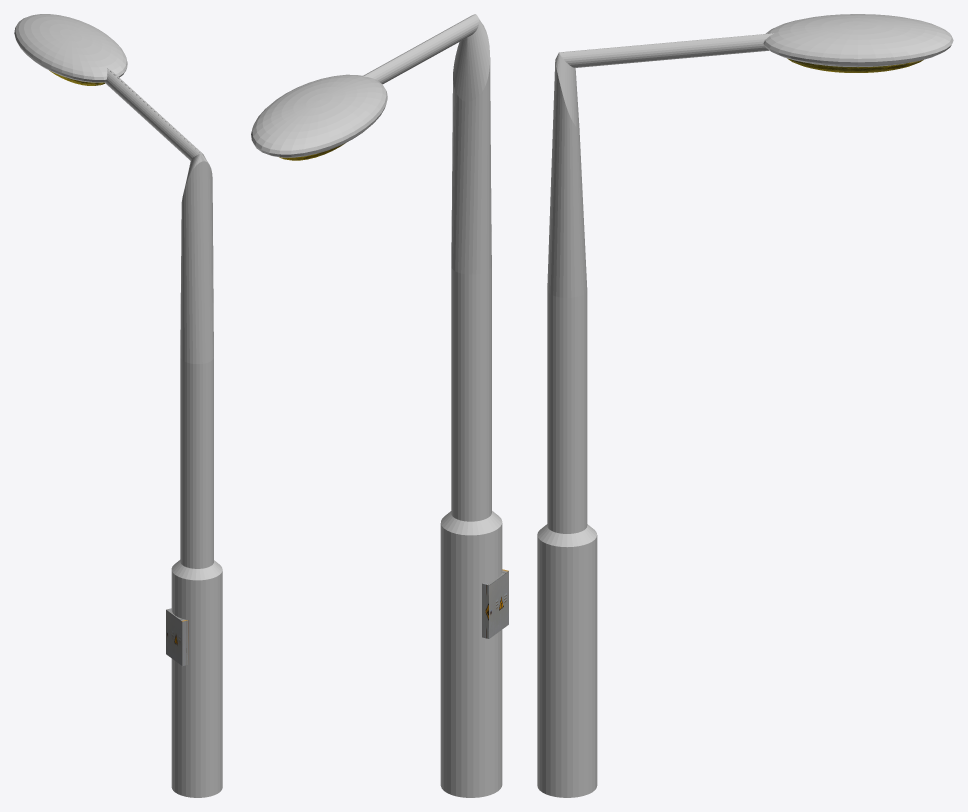
Rendered from lamp.obj.
3 renders of one model, left to right at view 1: azimuth 30°, elevation 25°; view 2: azimuth 150°, elevation 25°; view 3: azimuth 270°, elevation 25°, orthographic. The views are drawn at different scales.
Parts seen in each view (by area): view 1: Cylinder, Sphere, Cube; view 2: Cylinder, Sphere, Cube; view 3: Cylinder, Sphere.
Boxes of the visible parts, x1=… form: Cylinder: x1=104, y1=68, x2=222, y2=797; Sphere: x1=14, y1=14, x2=127, y2=82; Cube: x1=166, y1=608, x2=188, y2=666; Cylinder: x1=362, y1=14, x2=502, y2=797; Sphere: x1=251, y1=74, x2=387, y2=157; Cube: x1=482, y1=569, x2=508, y2=638; Cylinder: x1=537, y1=33, x2=773, y2=797; Sphere: x1=763, y1=14, x2=953, y2=66.
Bounding box in the file's own units: 1.62 × 13.18 × 6.54.
